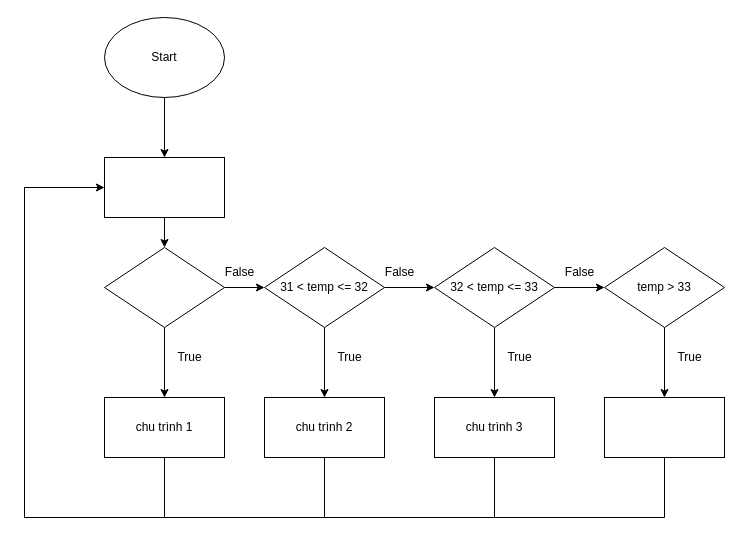
Image size: 742x543. Some labels were removed from this diagram. Here are the shapes that lost their labels. From the top down, the centre of each, then its label:
At point (164, 187): "Đọc giá trị nhiệt độ từ cảm biến".
At point (164, 287): "temp <= 31".
At point (664, 427): "chu trình 4".
